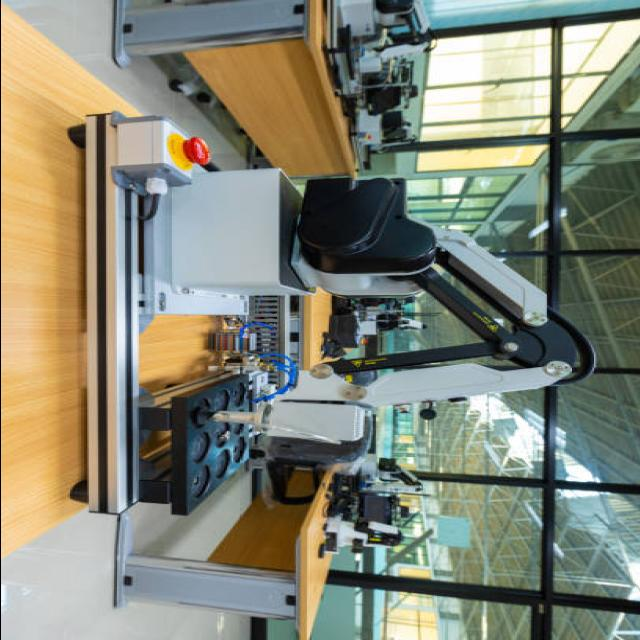Robotic-arm: (281, 168, 605, 420)
